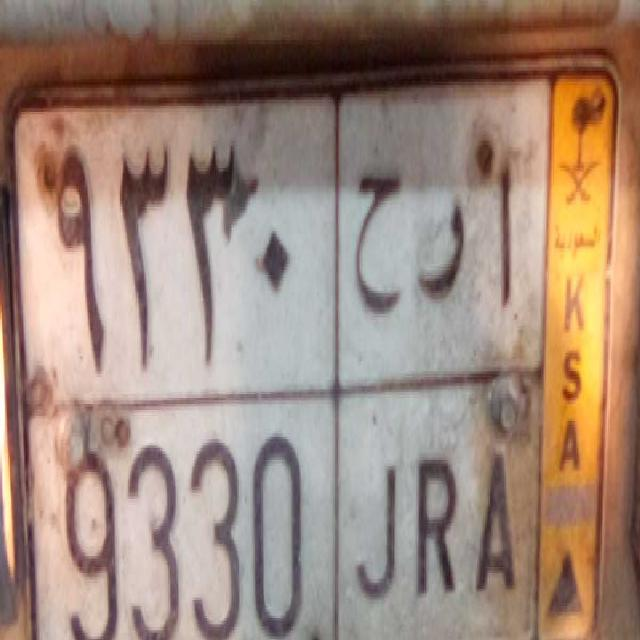license_plate: (29, 381, 539, 640)
